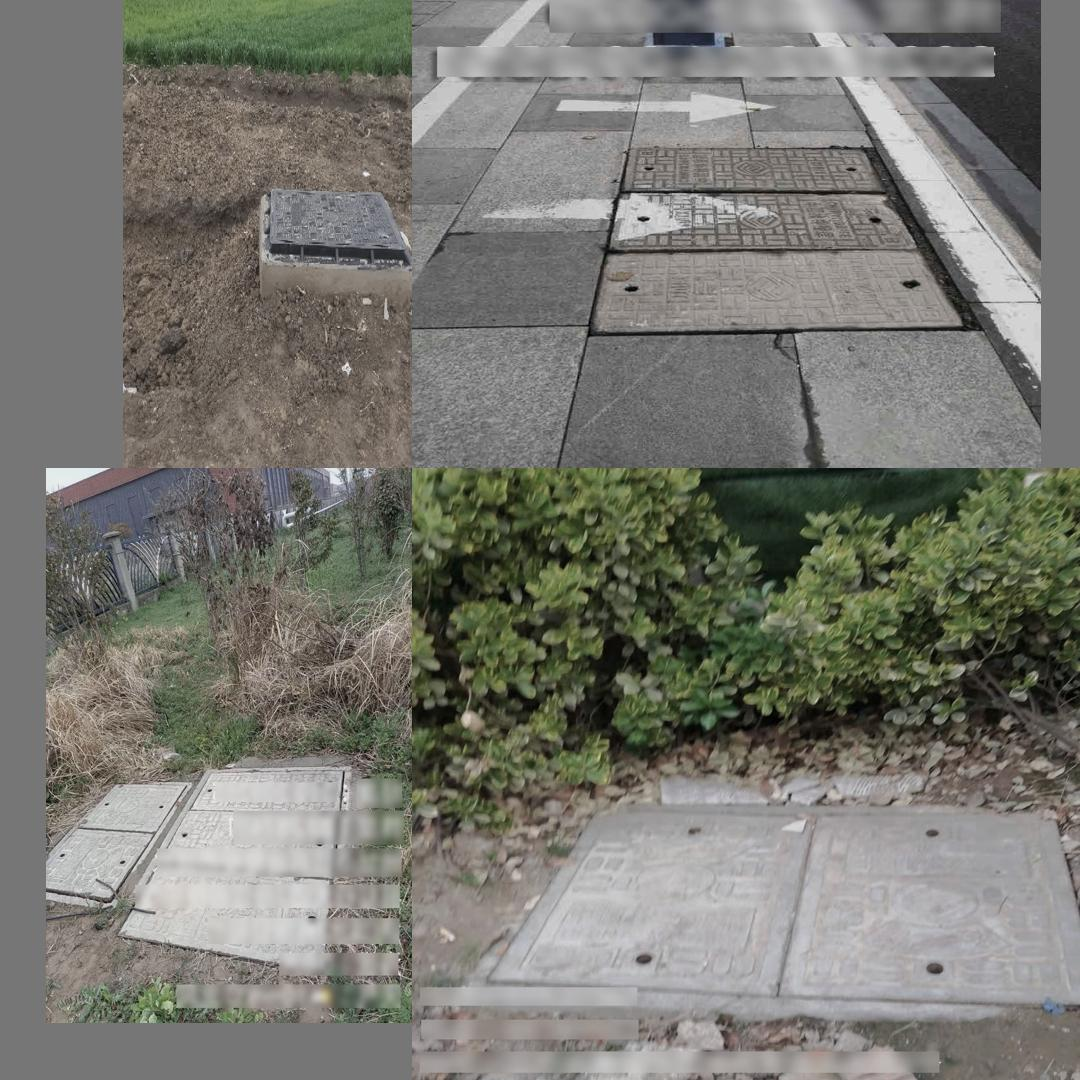good: (484, 804, 1080, 1005), (583, 141, 975, 338), (115, 765, 353, 969), (46, 780, 190, 908), (260, 183, 408, 250)
